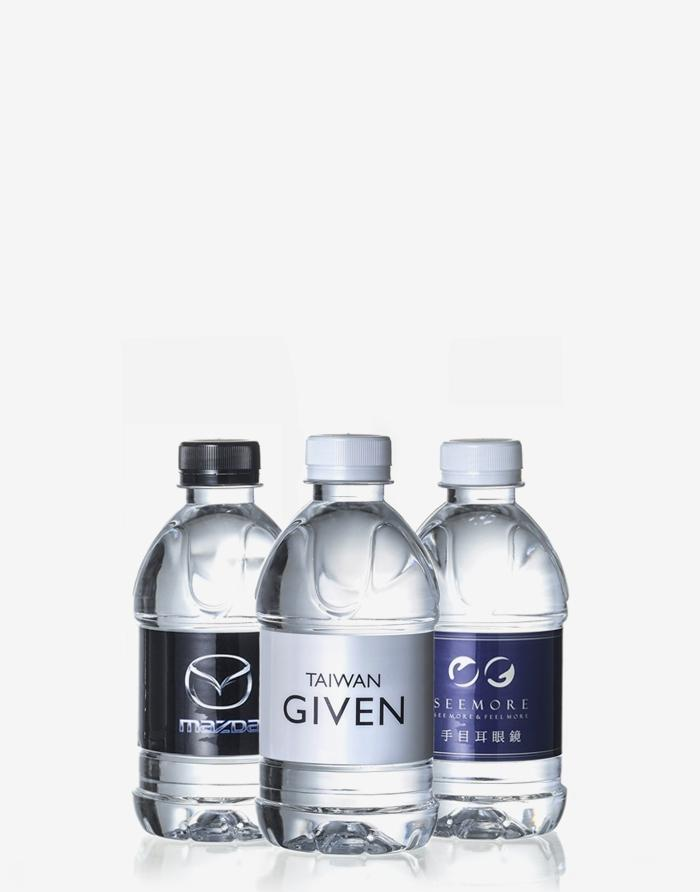bottle: (250, 432, 445, 861), (125, 431, 310, 860), (417, 428, 560, 853)
